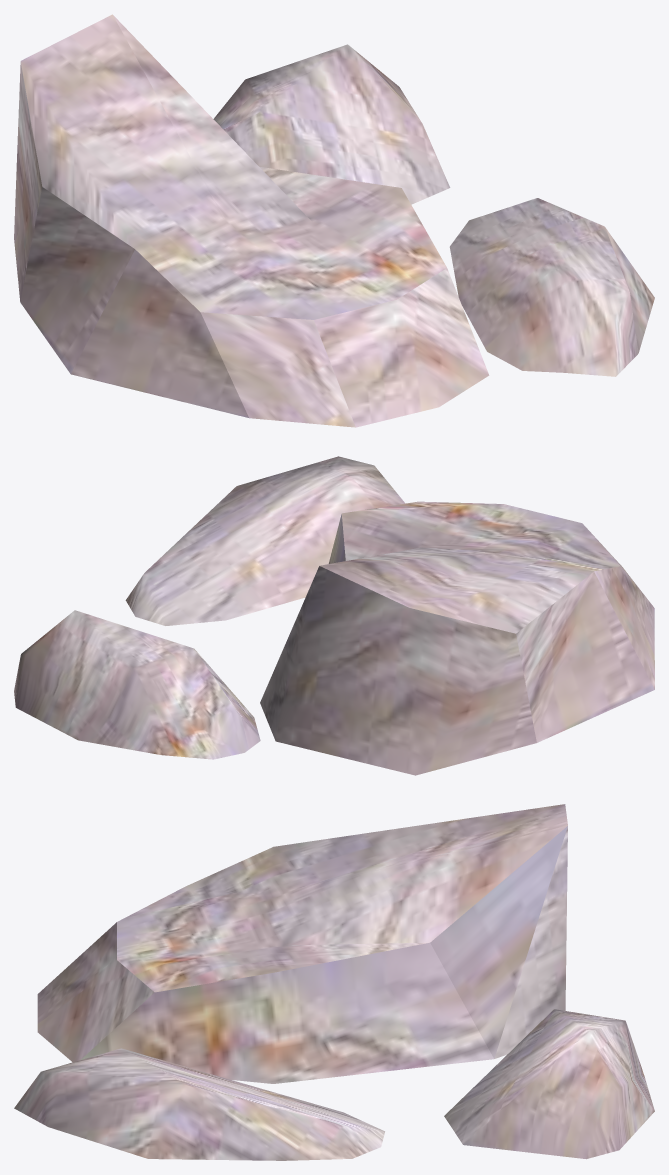
Rendered from stonemine_granite_c.glb.
3 views of the same model, one above another, from view 1: azimuth 30°, elevation 25°; view 2: azimuth 150°, elevation 25°; view 3: azimuth 270°, elevation 25° (orthographic). The views are drawn at different scales.
Visible parts, largest first — view 1: stonemine_granite_c; view 2: stonemine_granite_c; view 3: stonemine_granite_c.
Part boxes in pixels (<box>): stonemine_granite_c: <box>14,14,654,427</box>; stonemine_granite_c: <box>14,456,654,775</box>; stonemine_granite_c: <box>14,804,654,1160</box>.
Size of the model in its own units: 6.75 by 2.49 by 7.63.
1 material, 1 textured.
